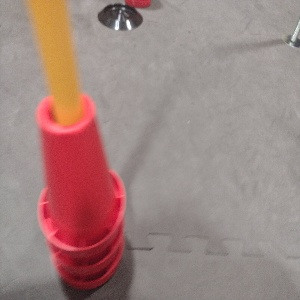Red_3: (34, 89, 127, 289)
